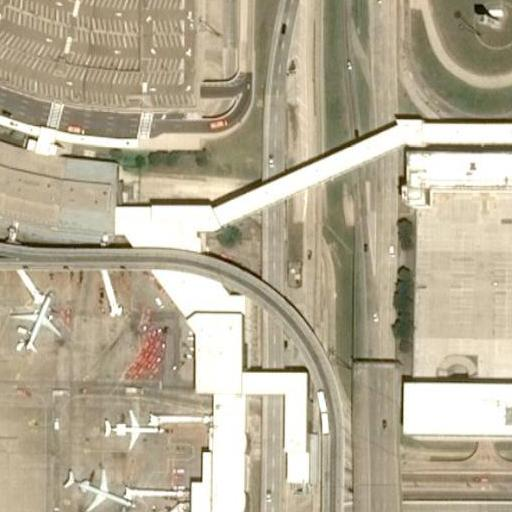Aircraft: (8, 289, 69, 356), (65, 466, 131, 512), (100, 402, 164, 449)
